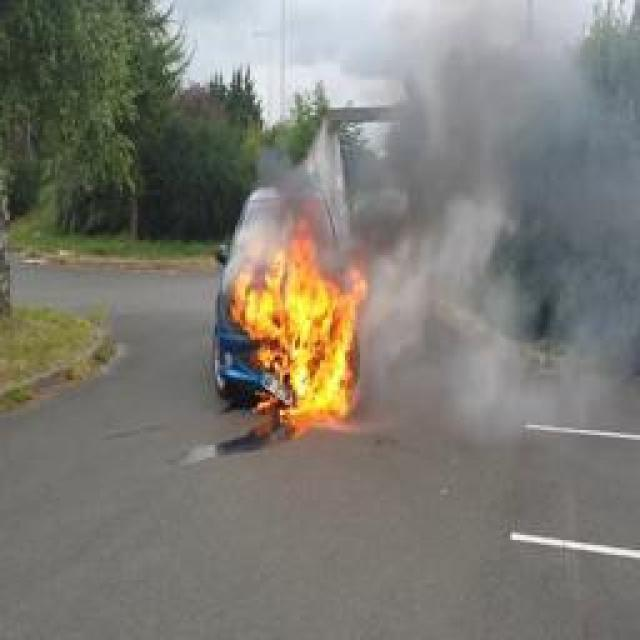Fire: (230, 210, 368, 418)
